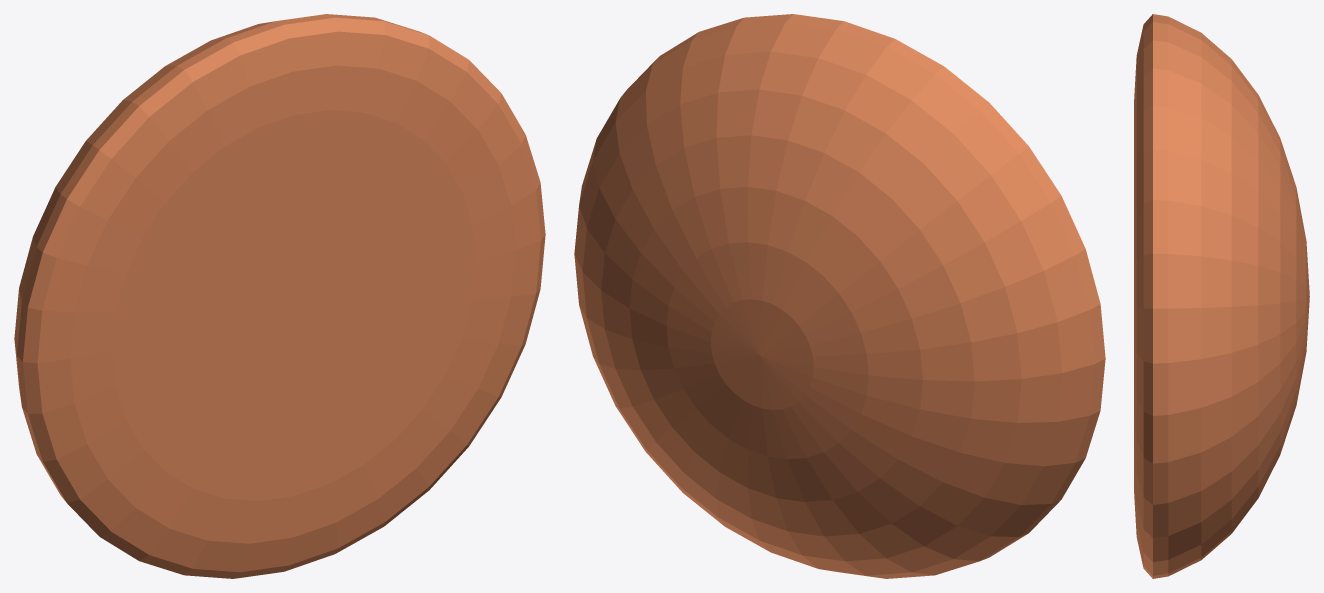
Rendered from top_bun.fbx.
3 views of the same model, side by side, from view 1: azimuth 30°, elevation 25°; view 2: azimuth 150°, elevation 25°; view 3: azimuth 270°, elevation 25° (orthographic). The views are drawn at different scales.
Parts seen in each view (by area): view 1: Cylinder.002; view 2: Cylinder.002; view 3: Cylinder.002.
Part boxes in pixels (x1=…): Cylinder.002: x1=14, y1=14, x2=545, y2=578; Cylinder.002: x1=574, y1=14, x2=1105, y2=578; Cylinder.002: x1=1134, y1=14, x2=1309, y2=578.
Bounding box in the file's own units: 2684 × 2684 × 834.
